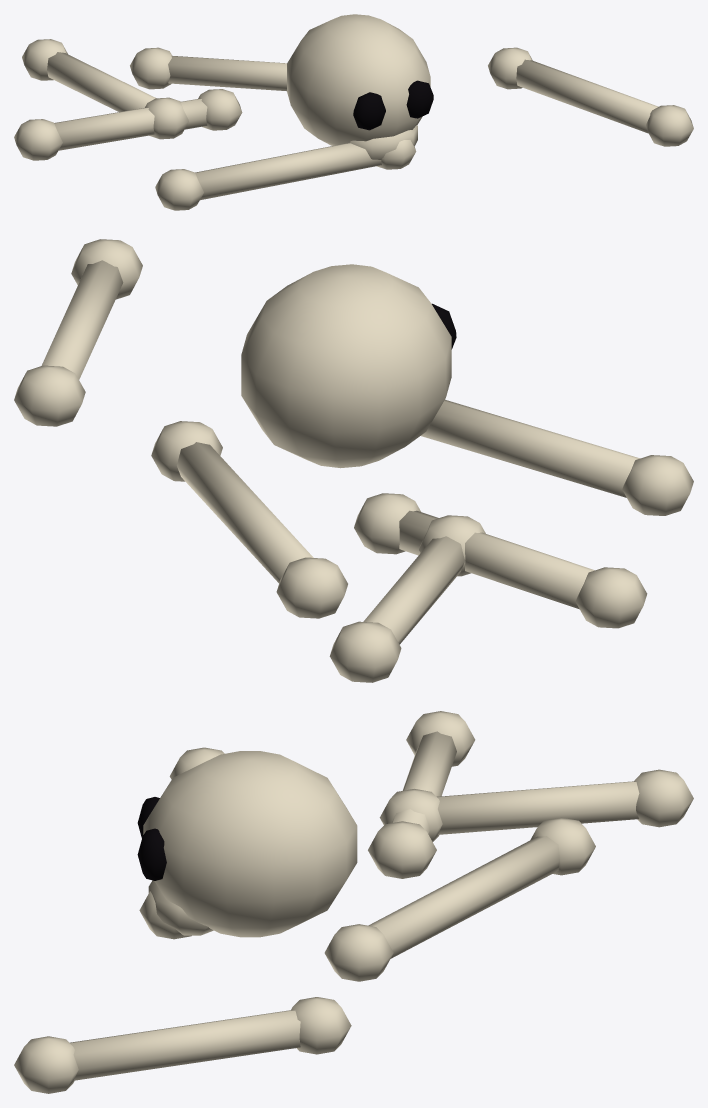
The model's file is ossos.glb.
The picture shows the model from 3 angles, top to bottom: view 1: azimuth 30°, elevation 25°; view 2: azimuth 150°, elevation 25°; view 3: azimuth 270°, elevation 25°; orthographic projection. The views are drawn at different scales.
Visible parts, largest first — view 1: ossos; view 2: ossos; view 3: ossos.
Boxes of the visible parts, x1,y1,x2,y2 form: ossos: (14, 14, 693, 210); ossos: (14, 239, 693, 682); ossos: (14, 711, 693, 1093).
Bounding box in the file's own units: 1.45 × 0.33 × 1.18.
